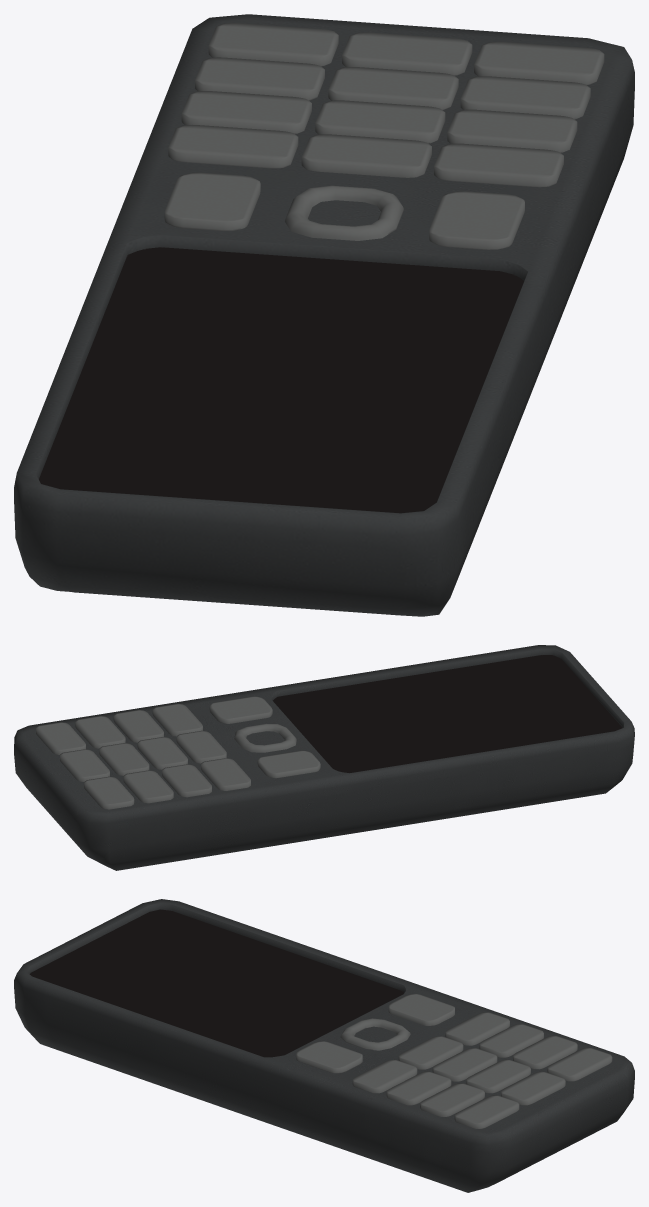
Rendered from telephone.glb.
3 views of the same model, one above another, from view 1: azimuth 30°, elevation 25°; view 2: azimuth 150°, elevation 25°; view 3: azimuth 270°, elevation 25° (orthographic). The views are drawn at different scales.
Visible parts, largest first — view 1: Cube__0; view 2: Cube__0; view 3: Cube__0.
Boxes of the visible parts, x1,y1,x2,y2 form: Cube__0: (14,14,634,616); Cube__0: (14,645,634,870); Cube__0: (14,899,634,1192).
Size of the model in its own units: 2.34 by 0.3267 by 2.56.
1 material, 1 textured.
